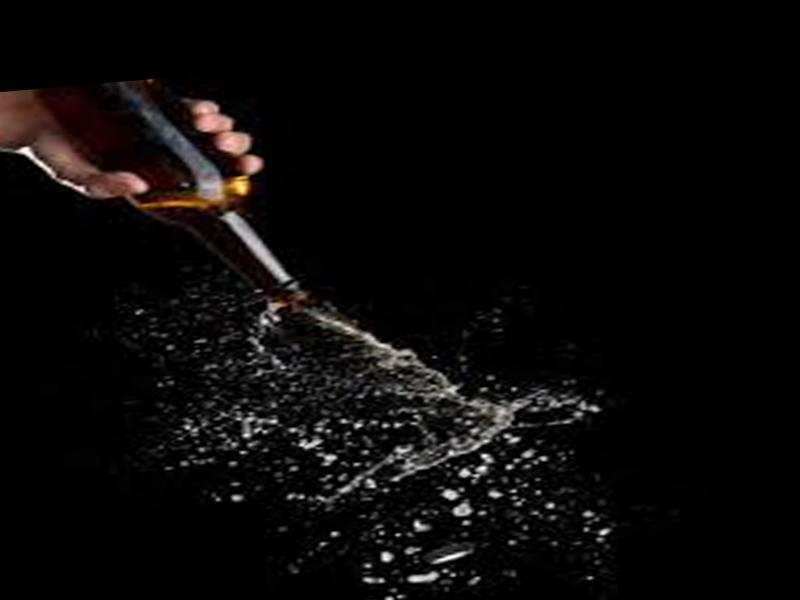Beer: (28, 68, 314, 324)
